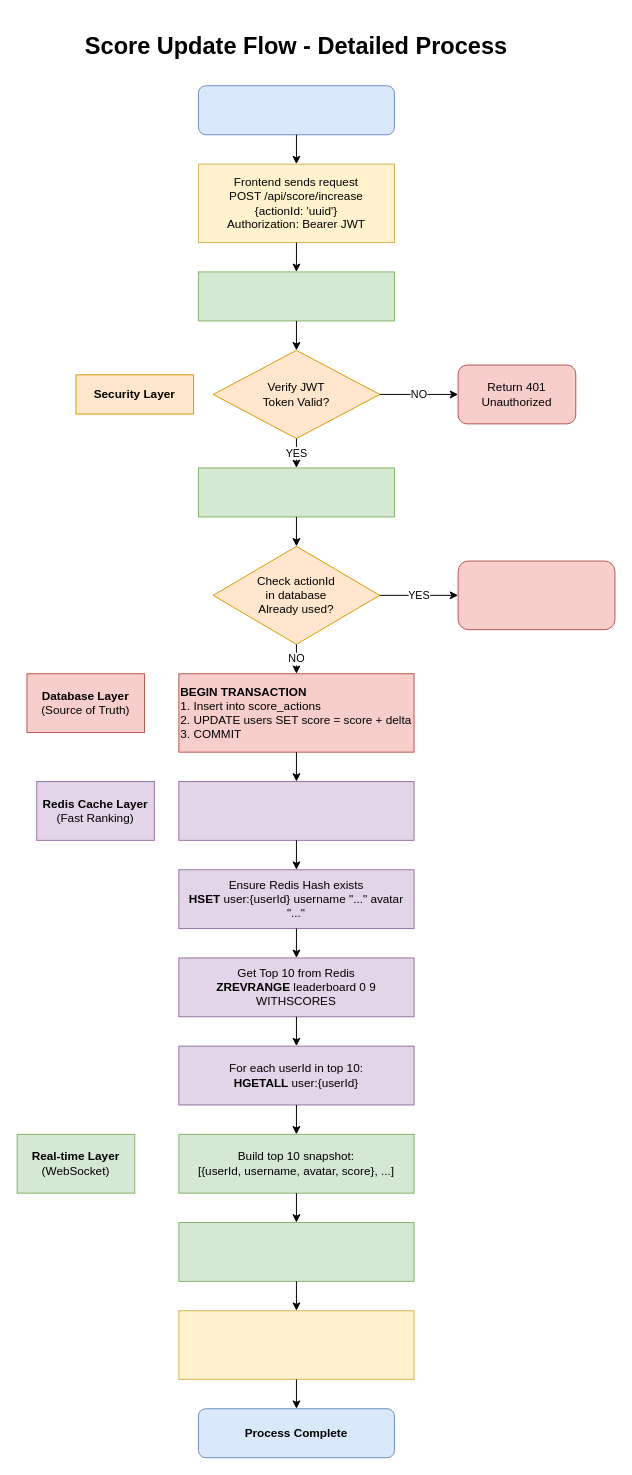
Image size: 632x1475. Some labels were removed from this diagram. The shapes that lost their labels are listed below. From the top down, each one's centre as x and y in pixels, then its label:
At (295,110): "User performs action on website".
At (295,296): "API Server receives request".
At (295,492): "Extract userId from JWT".
At (536,595): "Return 400 Action already processed (Anti-replay)".
At (296,810): "Update Redis Leaderboard ZINCRBY leaderboard {delta} {userId}".
At (296,1251): "Broadcast via WebSocket Send top 10 snapshot to ALL connected clients".
At (296,1344): "All clients receive update Replace current leaderboard Re-render UI".
